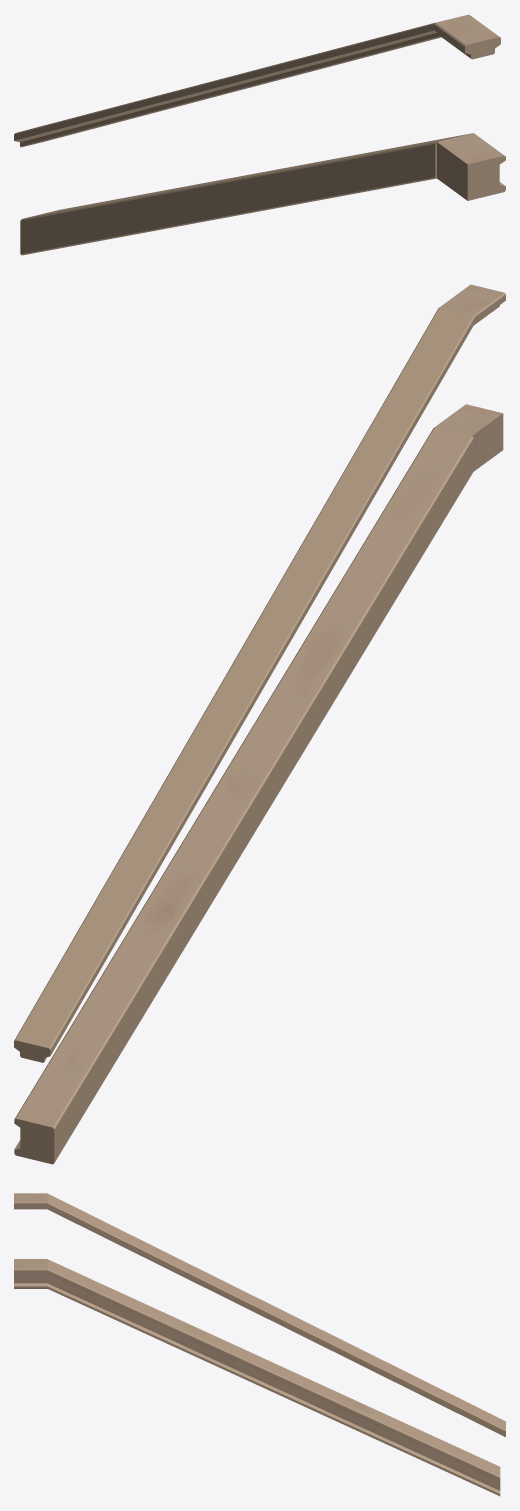
File: BannisterBase (1).fbx
3 views of the same model, one above another, from view 1: azimuth 30°, elevation 25°; view 2: azimuth 150°, elevation 25°; view 3: azimuth 270°, elevation 25° (orthographic). The views are drawn at different scales.
Visible parts, largest first — view 1: BannisterBase, bannisterTop; view 2: BannisterBase, bannisterTop; view 3: BannisterBase, bannisterTop.
Part boxes in pixels (x1=…): BannisterBase: x1=20, y1=133, x2=505, y2=255; bannisterTop: x1=14, y1=14, x2=500, y2=147; BannisterBase: x1=14, y1=404, x2=503, y2=1164; bannisterTop: x1=14, y1=284, x2=505, y2=1062; BannisterBase: x1=14, y1=1259, x2=500, y2=1496; bannisterTop: x1=14, y1=1193, x2=505, y2=1437.
Bounding box in the file's own units: 1.16 × 14.45 × 22.
